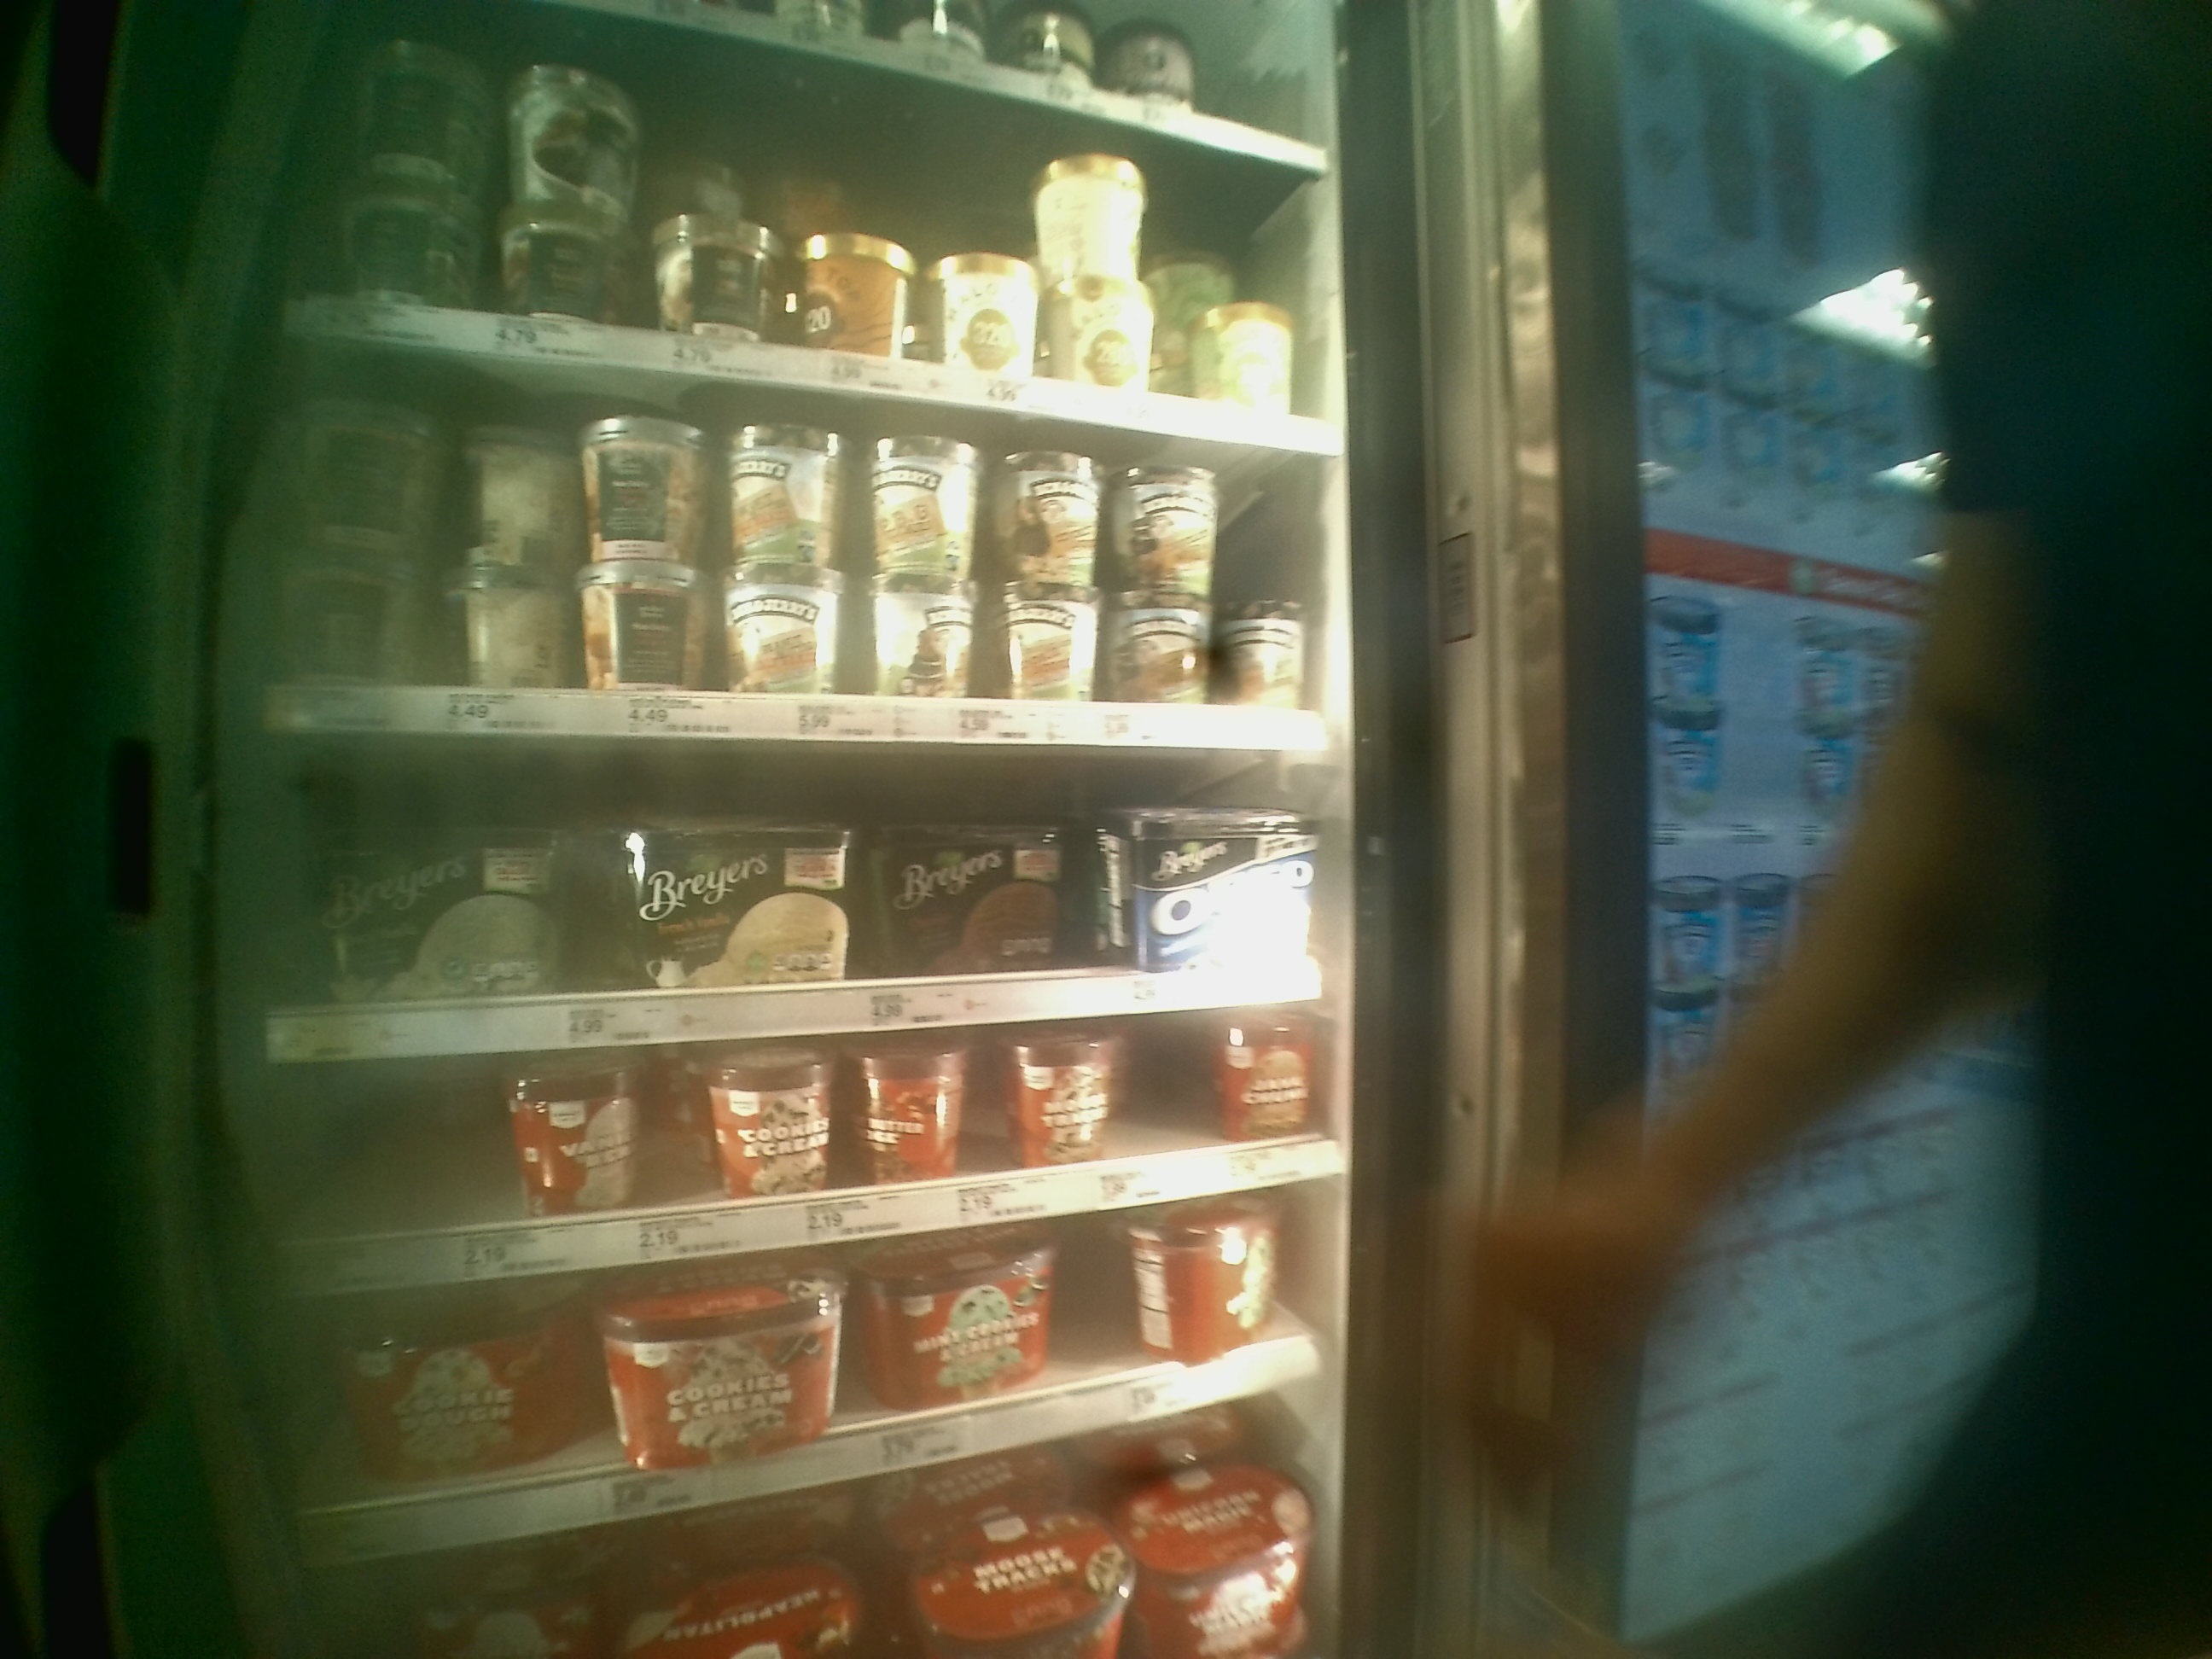ice-cream-shelf: (270, 376, 1313, 744), (249, 746, 1336, 1058)
